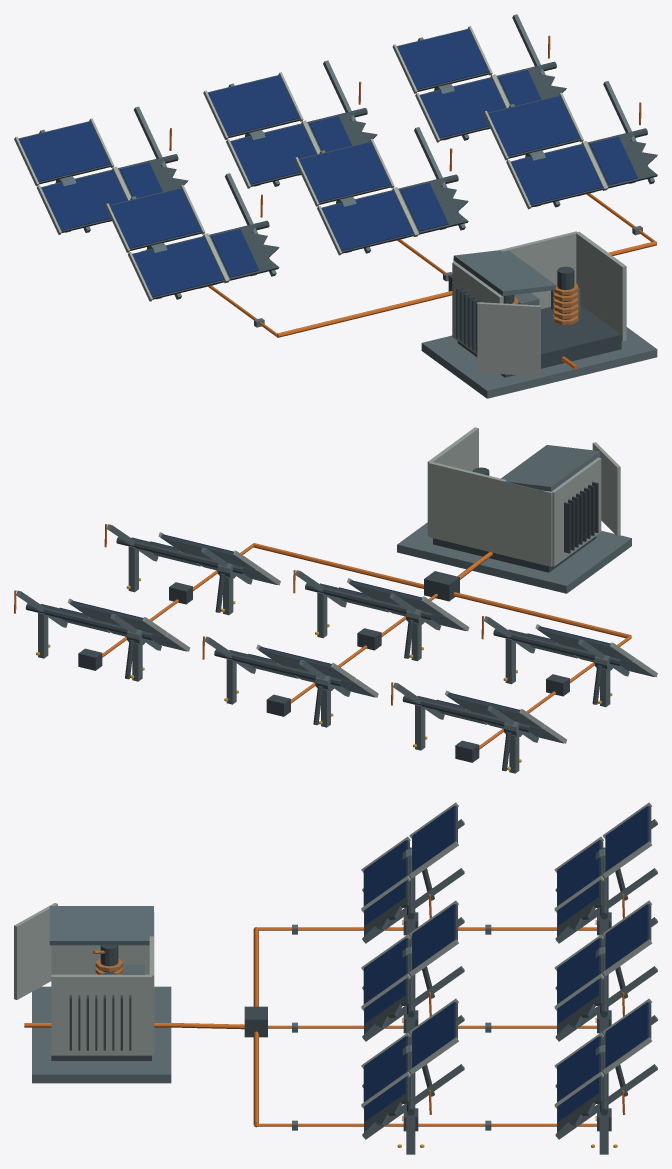
Rendered from solar_power_complex_d2.glb.
The picture shows the model from 3 angles, top to bottom: view 1: azimuth 30°, elevation 25°; view 2: azimuth 150°, elevation 25°; view 3: azimuth 270°, elevation 25°; orthographic projection. The views are drawn at different scales.
Visible parts, largest first — view 1: SOLAR_GAME_MESH, SOLAR_GAME_MESH_003, SOLAR_GAME_MESH_001, SOLAR_GAME_MESH_002, SOLAR_GAME_MESH_004, SOLAR_GAME_MESH_006, SOLAR_GAME_MESH_005; view 2: SOLAR_GAME_MESH, SOLAR_GAME_MESH_002, SOLAR_GAME_MESH_005, SOLAR_GAME_MESH_004, SOLAR_GAME_MESH_001, SOLAR_GAME_MESH_006, SOLAR_GAME_MESH_003; view 3: SOLAR_GAME_MESH, SOLAR_GAME_MESH_004, SOLAR_GAME_MESH_006, SOLAR_GAME_MESH_005, SOLAR_GAME_MESH_003, SOLAR_GAME_MESH_001, SOLAR_GAME_MESH_002.
Boxes of the visible parts, left/top/right/bottom form: SOLAR_GAME_MESH: left=50, top=61, right=657, bottom=398; SOLAR_GAME_MESH_003: left=483, top=81, right=657, bottom=209; SOLAR_GAME_MESH_001: left=105, top=173, right=279, bottom=301; SOLAR_GAME_MESH_002: left=294, top=127, right=468, bottom=255; SOLAR_GAME_MESH_004: left=14, top=106, right=188, bottom=234; SOLAR_GAME_MESH_006: left=392, top=14, right=566, bottom=142; SOLAR_GAME_MESH_005: left=203, top=60, right=377, bottom=188; SOLAR_GAME_MESH: left=25, top=427, right=631, bottom=773; SOLAR_GAME_MESH_002: left=293, top=570, right=469, bottom=631; SOLAR_GAME_MESH_005: left=202, top=636, right=378, bottom=697; SOLAR_GAME_MESH_004: left=391, top=682, right=566, bottom=743; SOLAR_GAME_MESH_001: left=481, top=616, right=657, bottom=677; SOLAR_GAME_MESH_006: left=14, top=590, right=189, bottom=651; SOLAR_GAME_MESH_003: left=104, top=524, right=280, bottom=585; SOLAR_GAME_MESH: left=14, top=847, right=628, bottom=1154; SOLAR_GAME_MESH_004: left=554, top=802, right=657, bottom=943; SOLAR_GAME_MESH_006: left=554, top=998, right=657, bottom=1139; SOLAR_GAME_MESH_005: left=554, top=900, right=657, bottom=1041; SOLAR_GAME_MESH_003: left=361, top=998, right=464, bottom=1139; SOLAR_GAME_MESH_001: left=361, top=802, right=464, bottom=943; SOLAR_GAME_MESH_002: left=361, top=900, right=464, bottom=1041.
Bounding box in the file's own units: 16.57 × 2.89 × 16.66.
